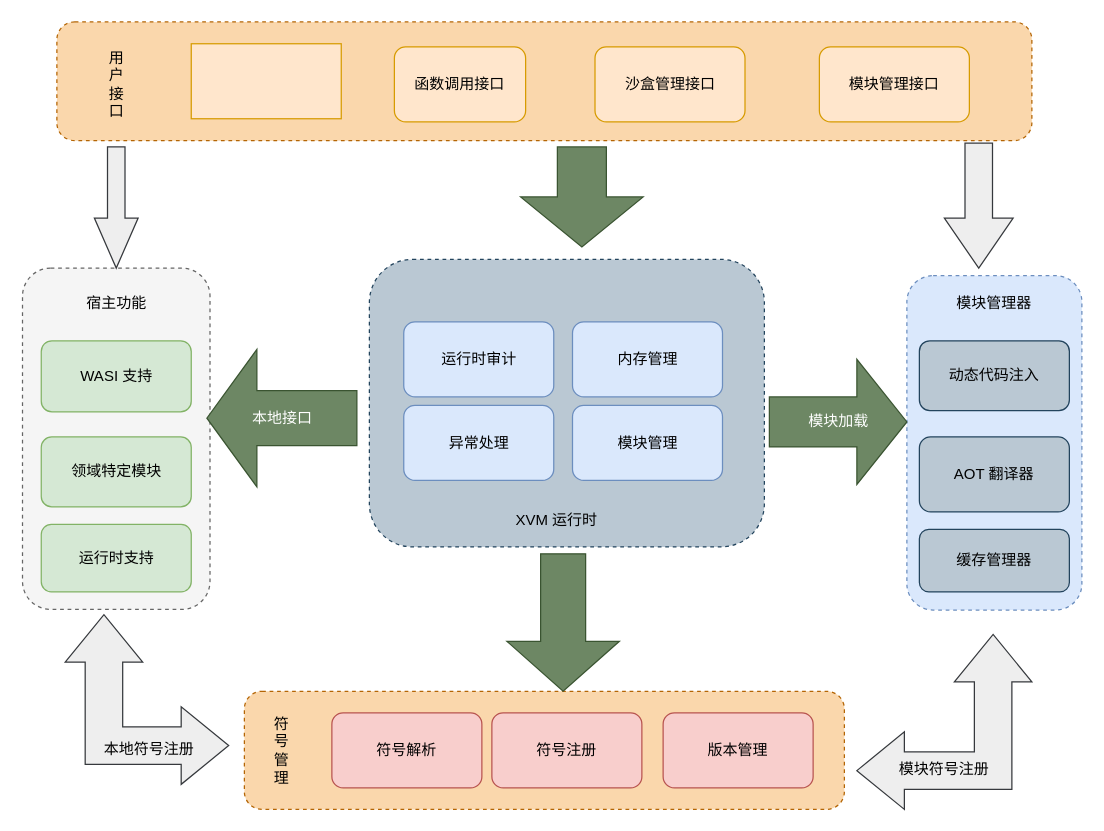
This 1104x831 diagram has some shape labels left out. The centre of each missing label's shape, as x and y in pixels:
函 数 调 用: point (581, 196)
宿主功能注入接口: point (265, 80)
模 块 管 理: point (978, 205)
跨 模 块 调 用: point (562, 621)
